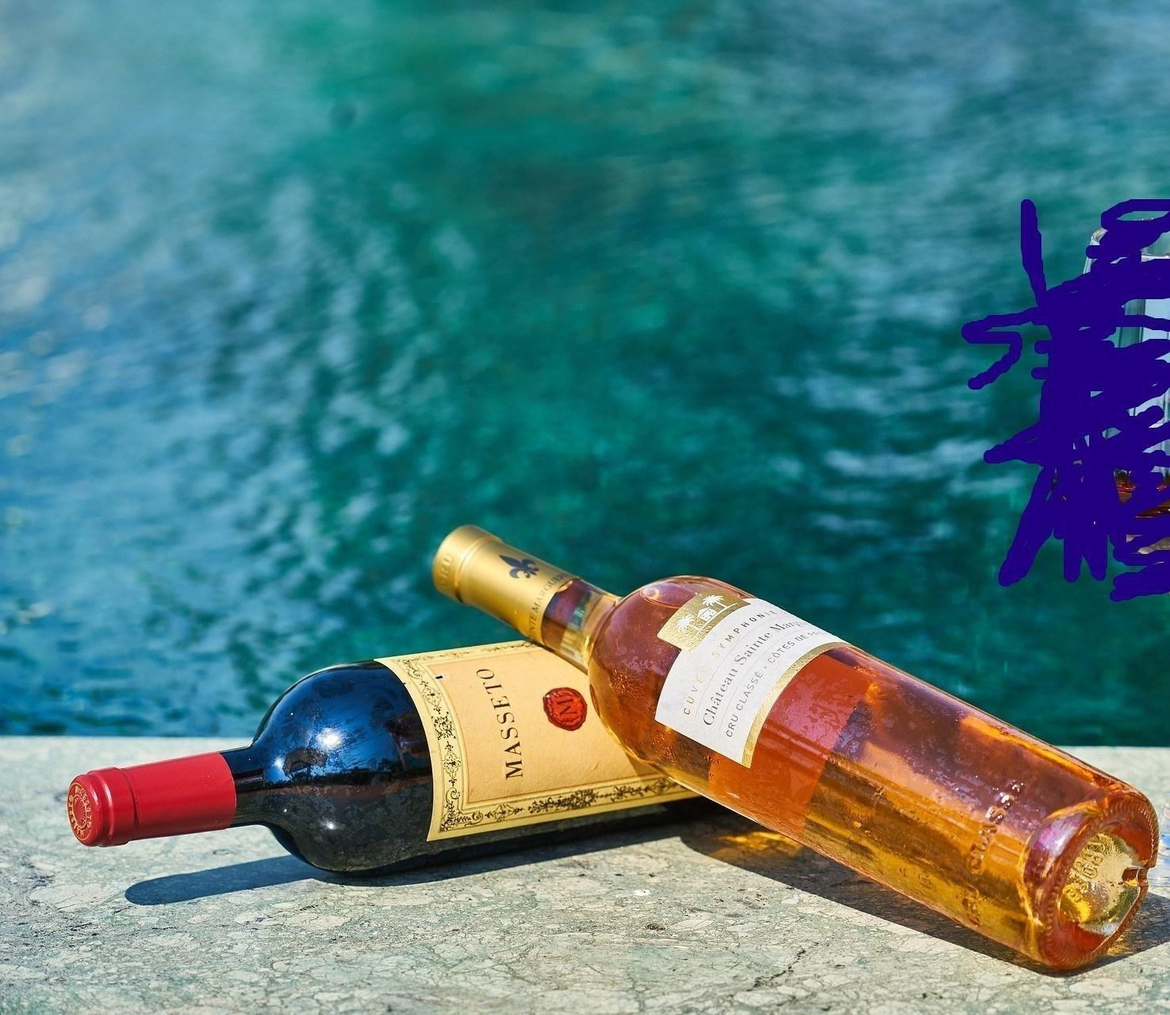bottle-glass: (430, 518, 1156, 980), (64, 629, 875, 881)
